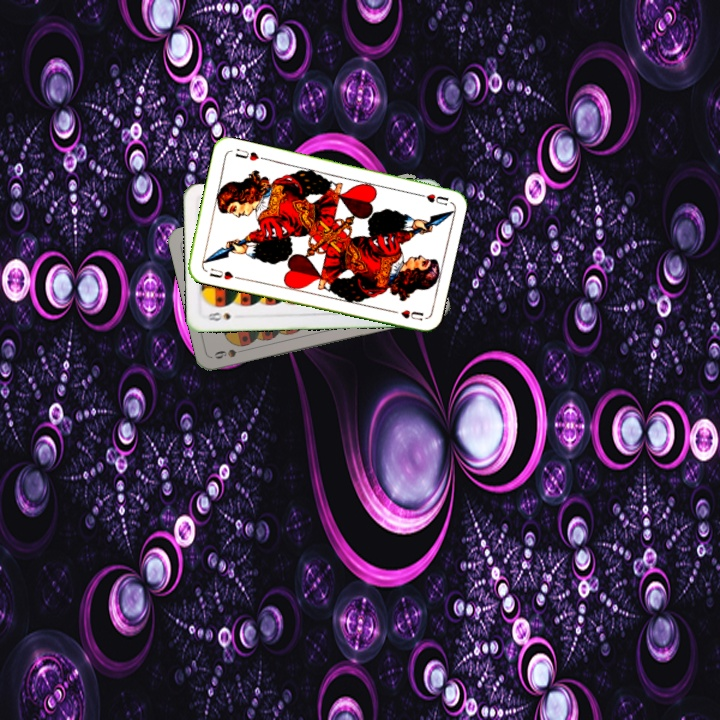HU: (411, 189, 451, 208), (205, 264, 236, 282)
S8: (204, 308, 233, 324)
S9: (210, 344, 250, 362)
